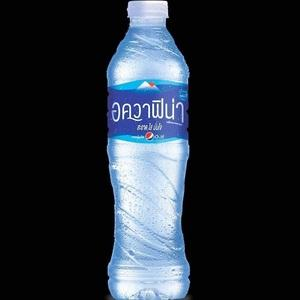bottle: (99, 0, 199, 300)
